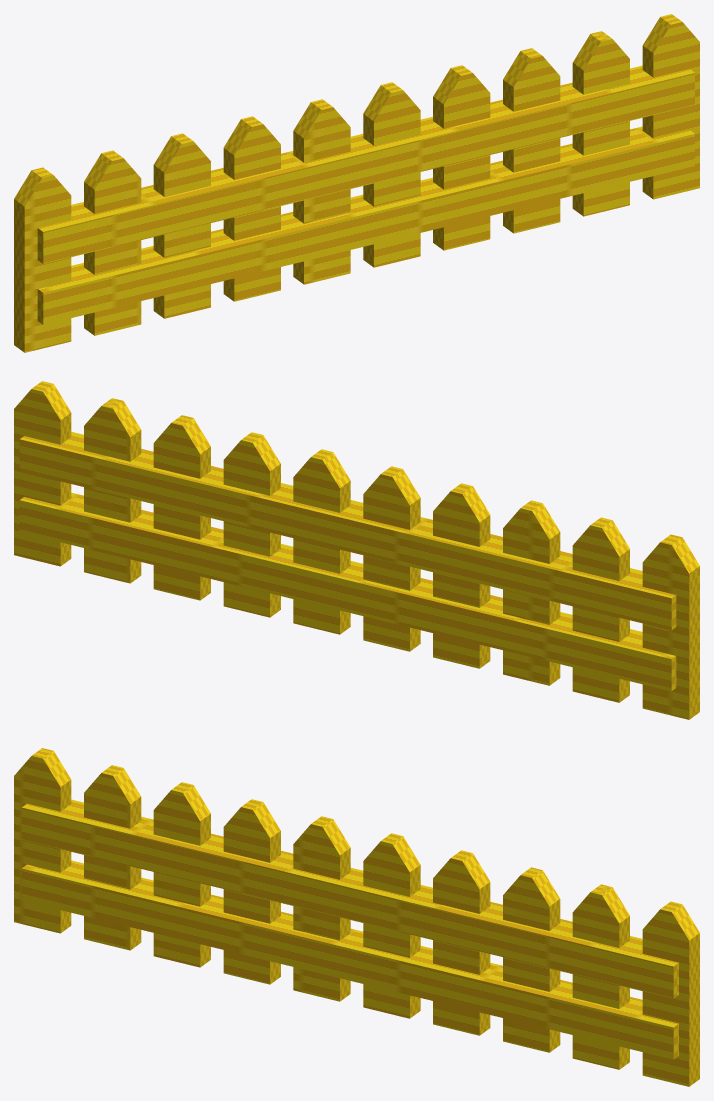
The model's file is Solbourg_Cloture.fbx.
The picture shows the model from 3 angles, top to bottom: view 1: azimuth 30°, elevation 25°; view 2: azimuth 150°, elevation 25°; view 3: azimuth 330°, elevation 25°; orthographic projection.
Parts seen in each view (by area): view 1: Cube; view 2: Cube; view 3: Cube.
Part boxes in pixels (left/top/right/bottom): Cube: left=14, top=14, right=699, bottom=352; Cube: left=14, top=381, right=699, bottom=719; Cube: left=14, top=748, right=699, bottom=1086.
Bounding box in the file's own units: 1450 × 350 × 76.86.
Materials: 1 (1 with a texture image).
